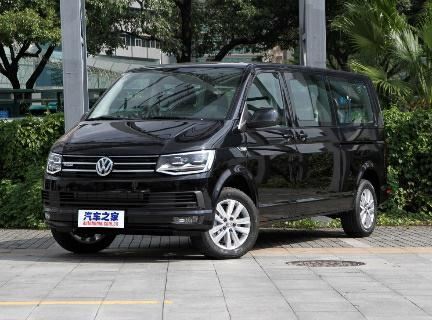大众-凯路威: (38, 58, 391, 258)
